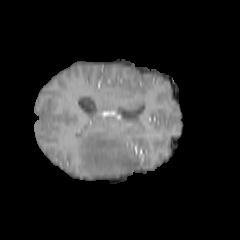glioma: (77, 128, 139, 177)
